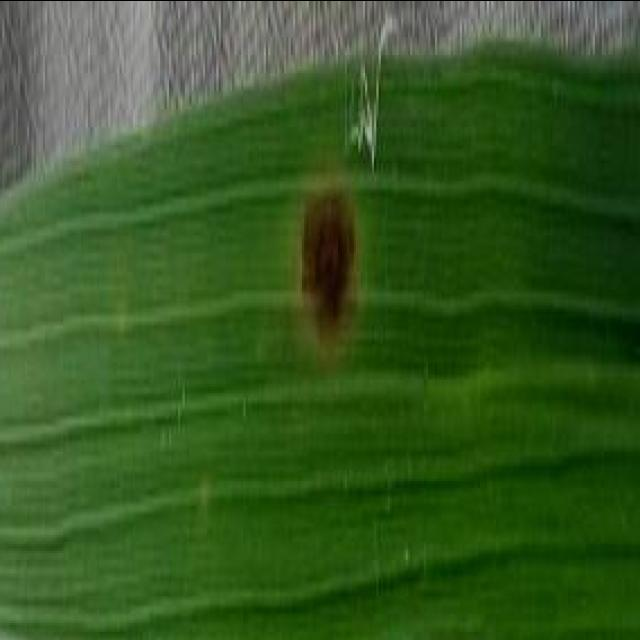Brown_Spot: (262, 140, 384, 363)
